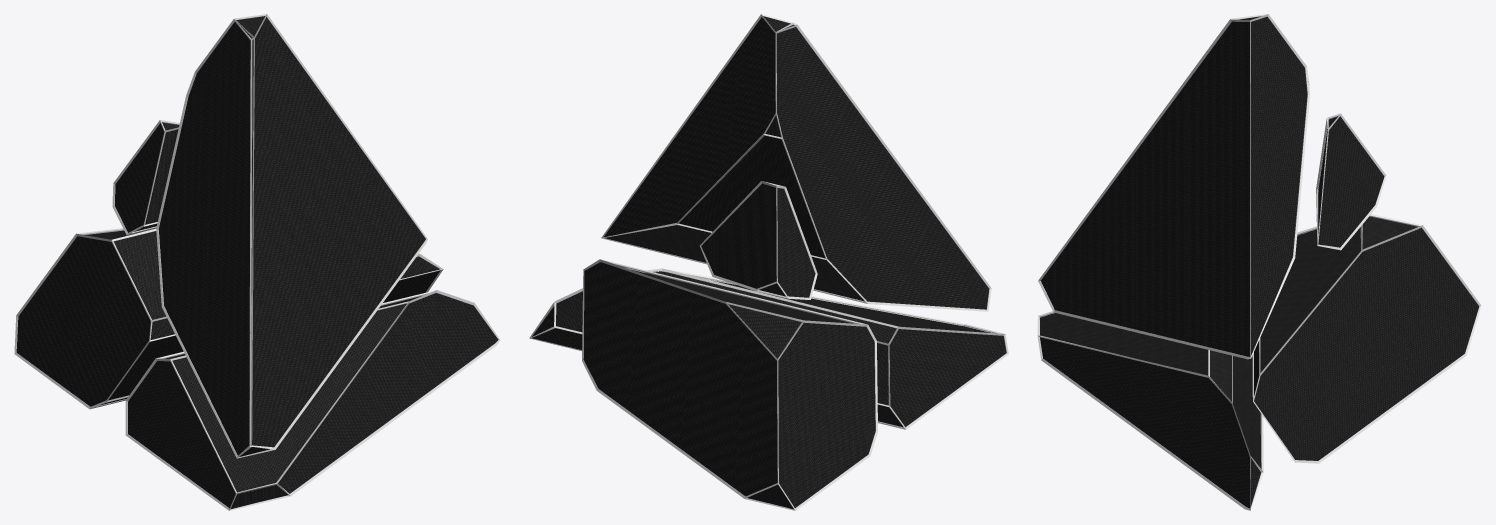
Rendered from otto_clean_v2.fbx.
3 renders of one model, left to right at view 1: azimuth 30°, elevation 25°; view 2: azimuth 150°, elevation 25°; view 3: azimuth 270°, elevation 25°, orthographic.
Parts seen in each view (by area): view 1: Pyramide_Otto_v1, Pyramide_Otto_v1.001; view 2: Pyramide_Otto_v1, Pyramide_Otto_v1.001; view 3: Pyramide_Otto_v1, Pyramide_Otto_v1.001.
Part boxes in pixels (box(x1,y1,x2,y2)): Pyramide_Otto_v1: box(16, 16, 498, 508); Pyramide_Otto_v1.001: box(14, 14, 500, 510); Pyramide_Otto_v1: box(532, 16, 1006, 509); Pyramide_Otto_v1.001: box(529, 14, 1008, 510); Pyramide_Otto_v1: box(1040, 16, 1479, 508); Pyramide_Otto_v1.001: box(1037, 14, 1481, 510).
Size of the model in its own units: 18862 by 18420 by 19477.
2 materials, 1 textured.
